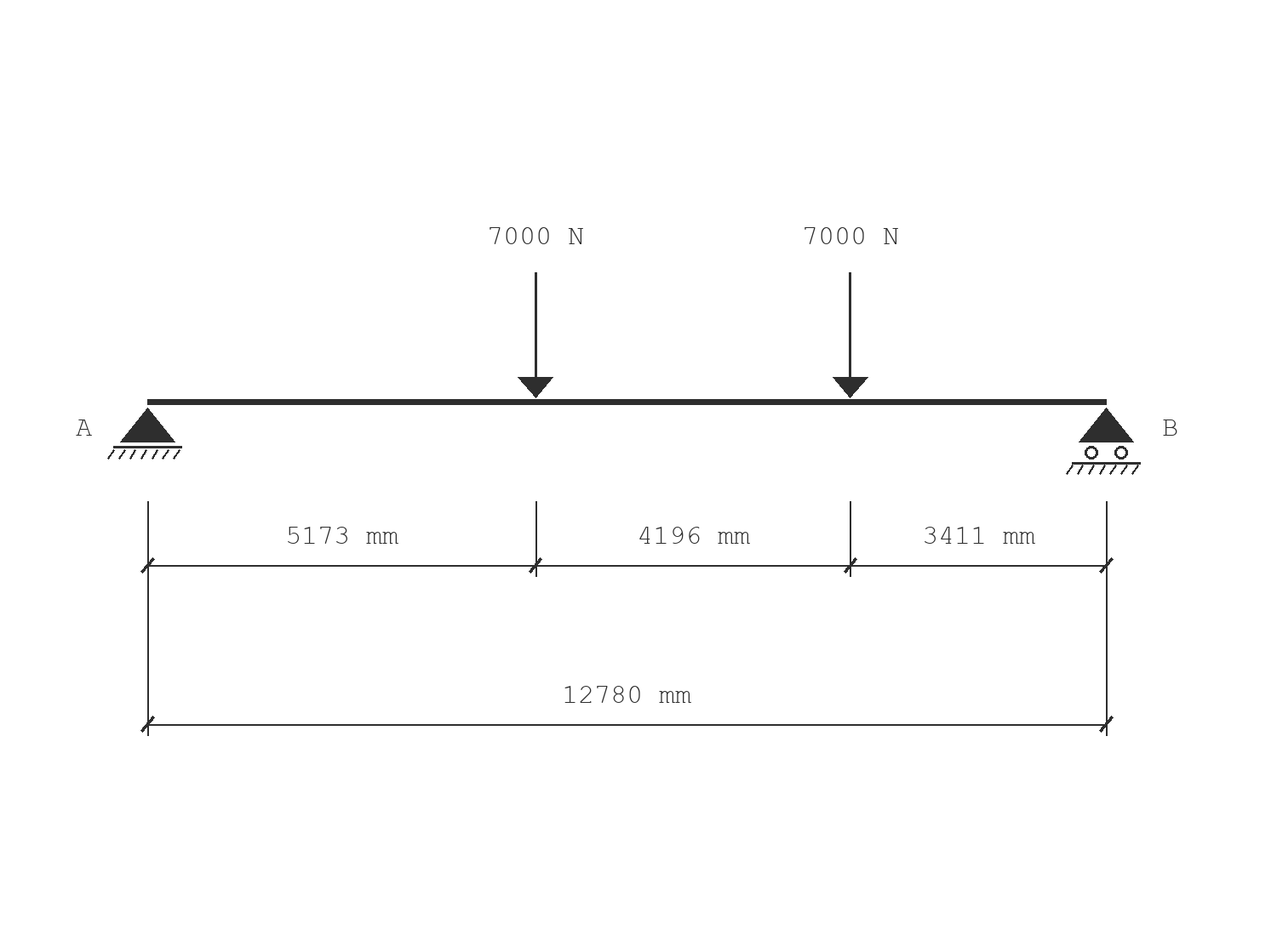pin_support: (107, 408, 182, 459)
point_load: (518, 272, 553, 398), (833, 272, 868, 398)
roller_support: (1066, 408, 1141, 475)
